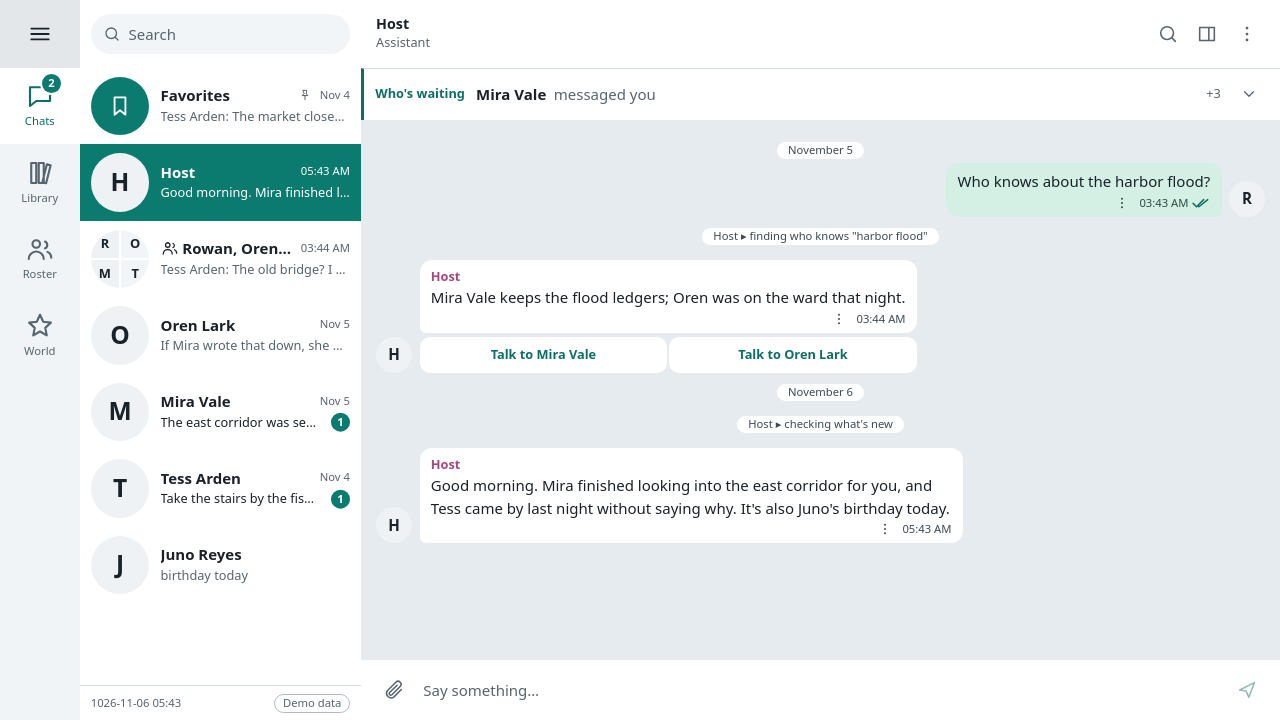
Test case: the host's name and avatar in its channel open its page, which has no trust or mode and leads to Talk
Expected: the element showing "November 5" is shown, [777, 142, 864, 159]
Expected: the list item "Host ▸ finding who knows \"harbor flood\"" is shown, [702, 228, 939, 245]
Click the 1st button "H" at coordinates (394, 355), box [376, 337, 412, 373]
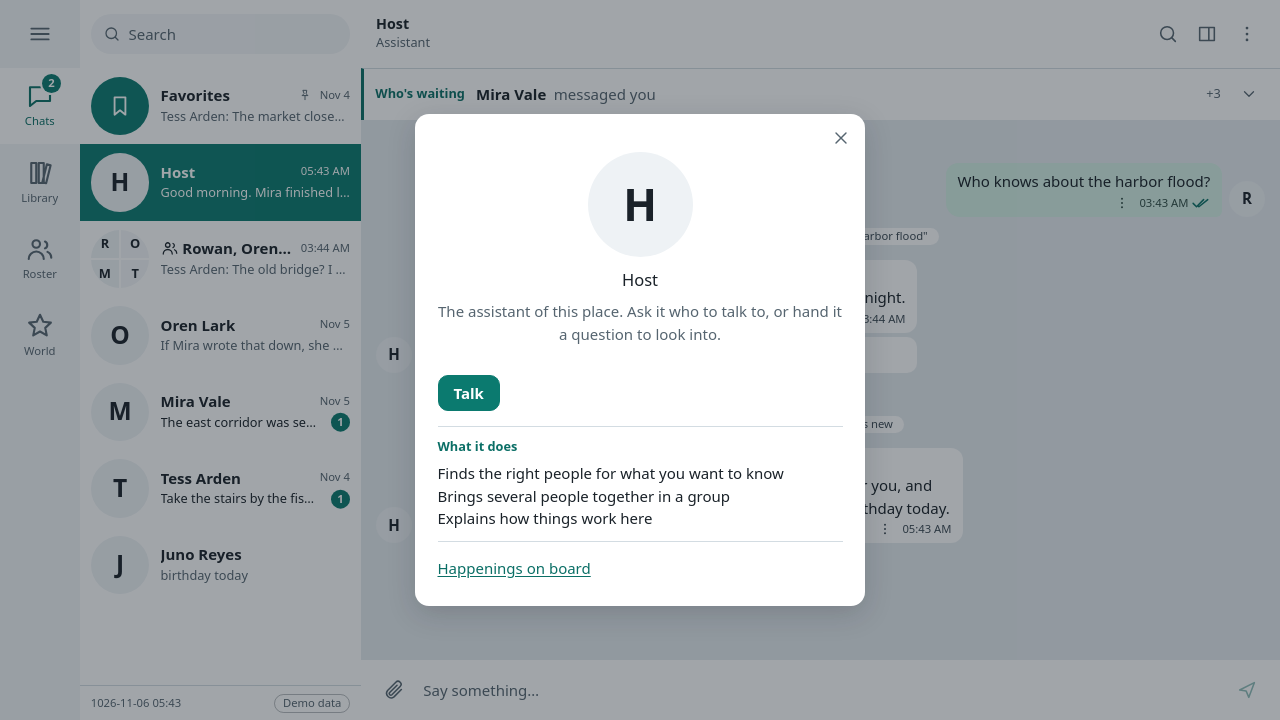
Now the text "The assistant of this place" is shown, box [438, 301, 842, 344]
Now the heading "What it does" is shown, box [438, 437, 517, 455]
Note: The happenings setting is one click away, on the quota page, and the card gives way to it.
Click the button "Happenings on board" at coordinates (514, 568), box [438, 557, 591, 579]
(page scrolled)
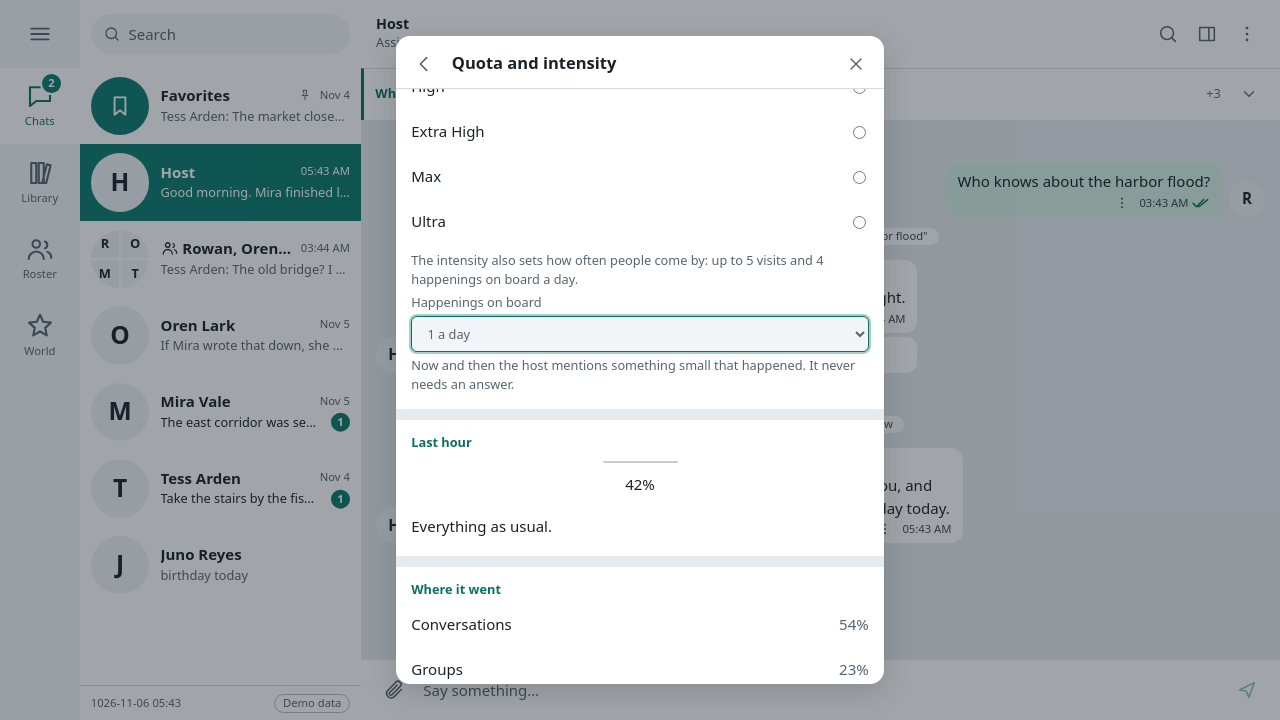
Now the element named "Quota and intensity" is shown, box [396, 89, 884, 684]
